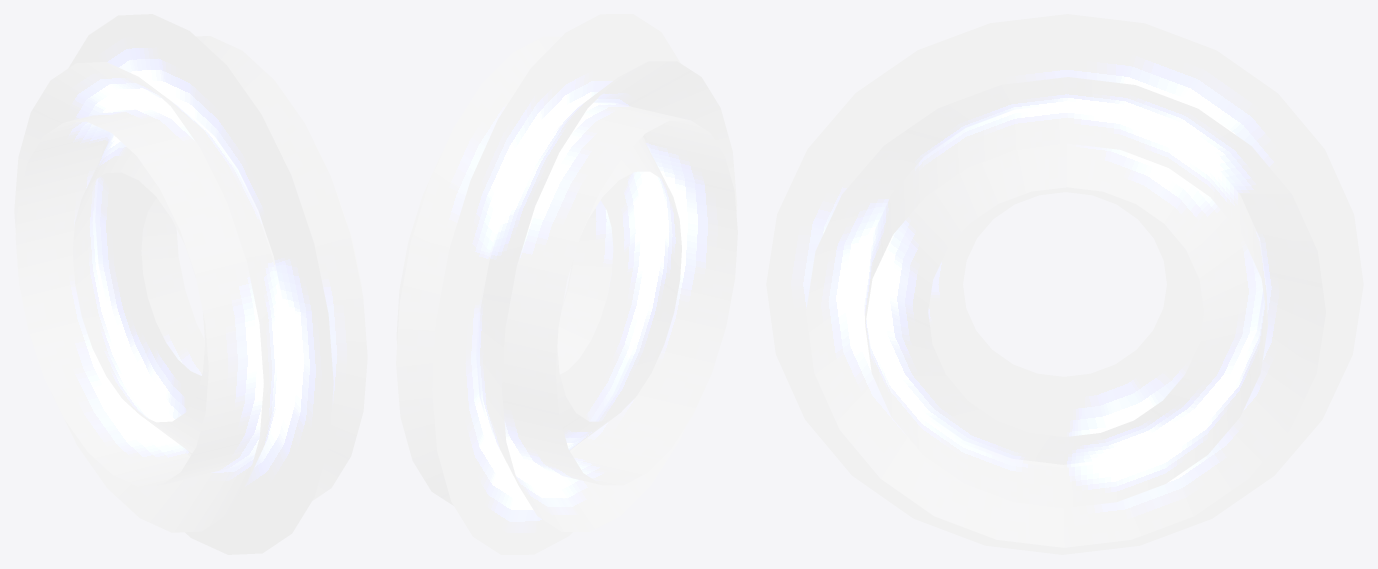
File: sfx_weapon_strengthen_glorb02_armR.glb
3 renders of one model, left to right at view 1: azimuth 30°, elevation 25°; view 2: azimuth 150°, elevation 25°; view 3: azimuth 270°, elevation 25°, orthographic. The views are drawn at different scales.
Visible parts, largest first — view 1: sfx_weapon_strengthen_glorb02_armR_obj2; view 2: sfx_weapon_strengthen_glorb02_armR_obj2; view 3: sfx_weapon_strengthen_glorb02_armR_obj2.
Boxes of the visible parts, x1,y1,x2,y2 form: sfx_weapon_strengthen_glorb02_armR_obj2: [14, 14, 367, 554]; sfx_weapon_strengthen_glorb02_armR_obj2: [396, 14, 737, 554]; sfx_weapon_strengthen_glorb02_armR_obj2: [766, 14, 1363, 554].
Size of the model in its own units: 0.1763 by 0.5215 by 0.5214.
1 material, 1 textured.
